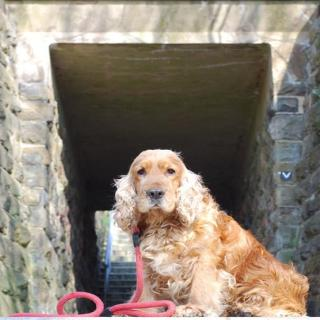dog: (112, 144, 210, 238)
nose: (145, 185, 165, 201)
